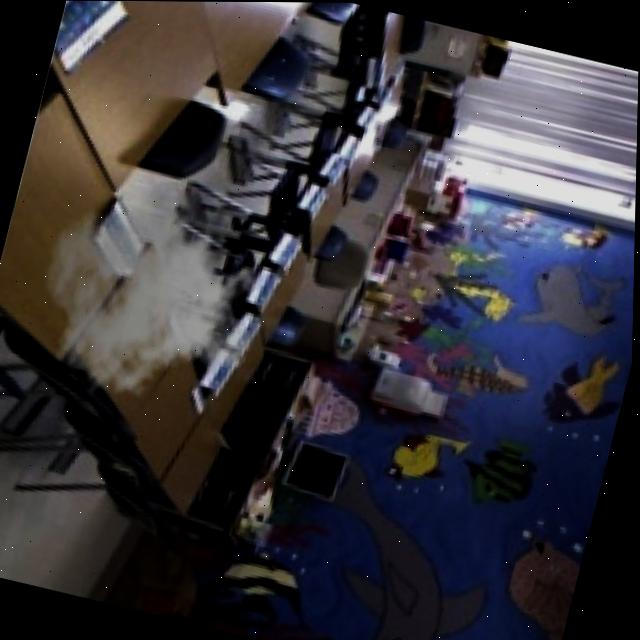Smoke: (17, 156, 288, 428)
